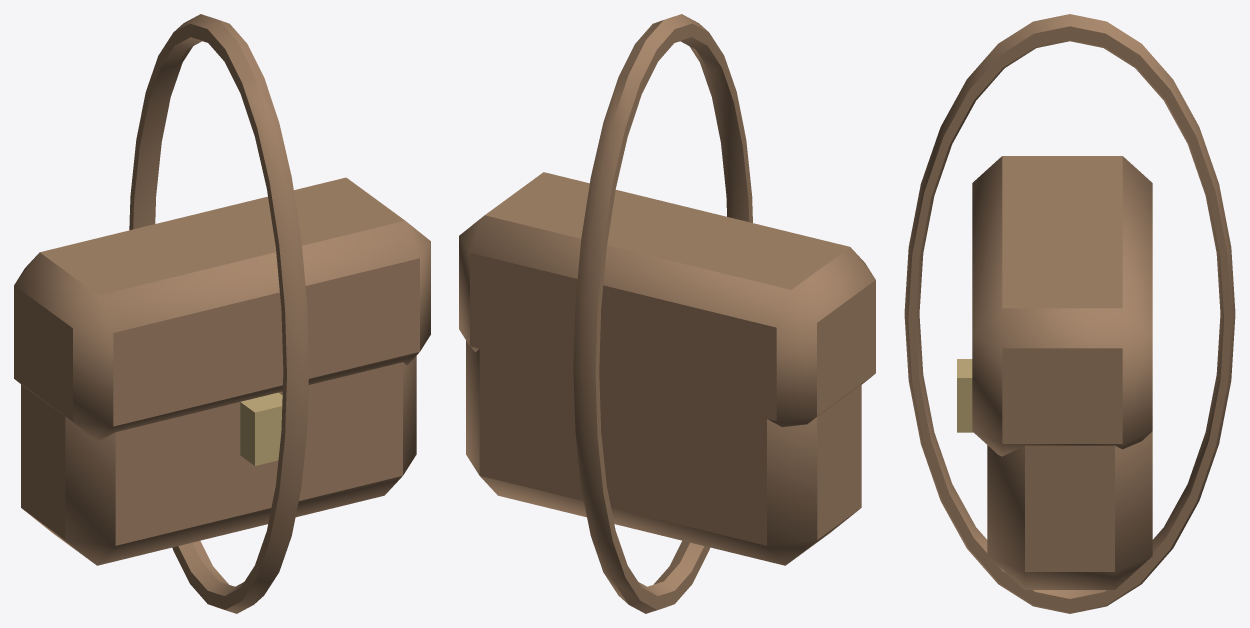
The model's file is leather-satchel-v01.glb.
The picture shows the model from 3 angles, left to right: view 1: azimuth 30°, elevation 25°; view 2: azimuth 150°, elevation 25°; view 3: azimuth 270°, elevation 25°; orthographic projection.
Parts seen in each view (by area): view 1: leather-satchel; view 2: leather-satchel; view 3: leather-satchel.
Part boxes in pixels (x1,y1,x2,y2): leather-satchel: (14, 14, 430, 613); leather-satchel: (459, 14, 875, 613); leather-satchel: (904, 14, 1235, 613).
Size of the model in its own units: 0.56 by 0.88 by 0.44.
